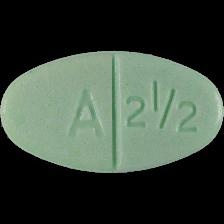65162-763: (0, 0, 224, 224)
